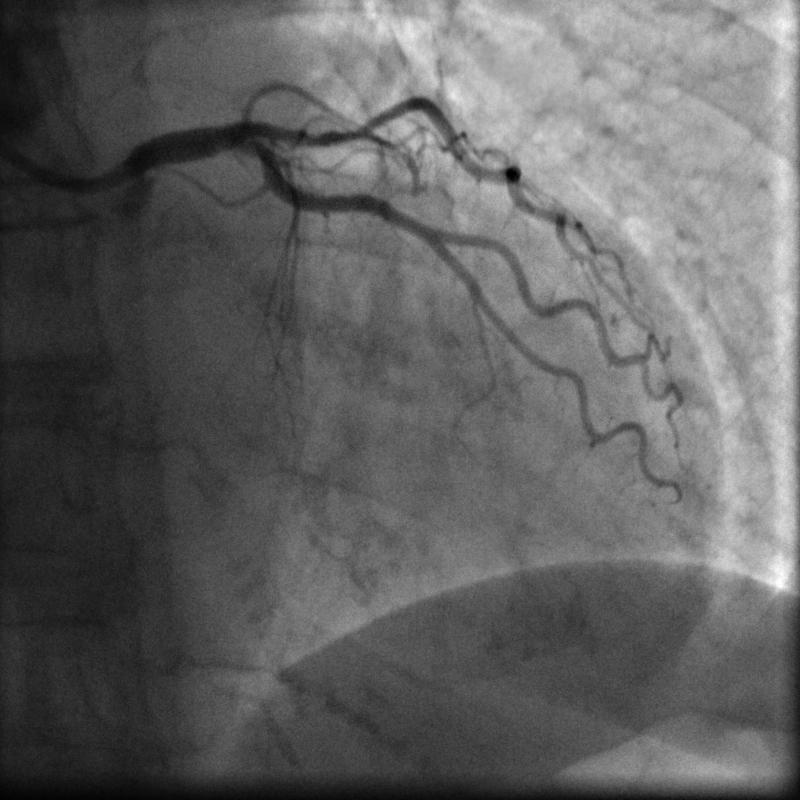Stenosis: (345, 121, 376, 137)
